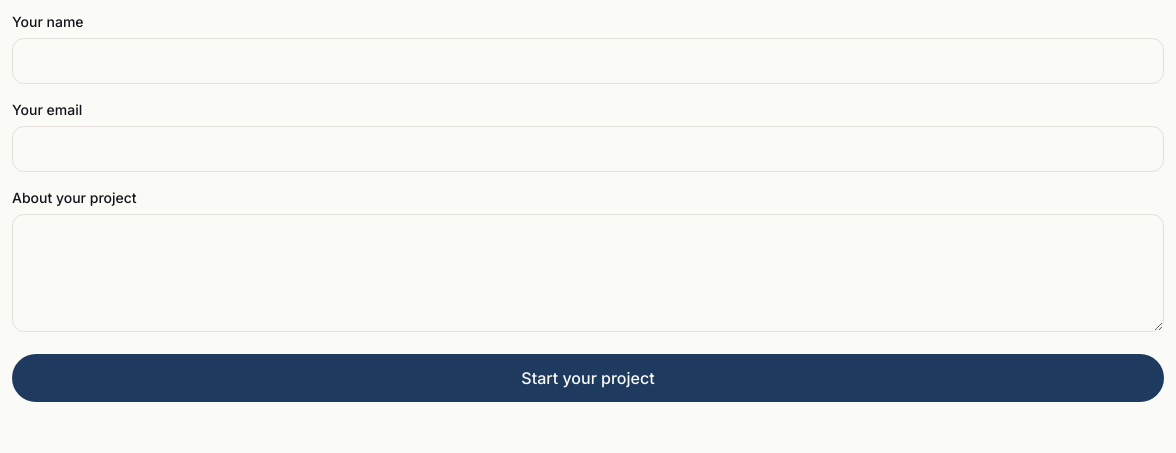
Test case: ContactForm (validated form) › keeps the text and shows a fallback when the send fails
Type "Test Visitor" into the field labelled "Your name". click: (588, 61)
box: [12, 38, 1164, 84]
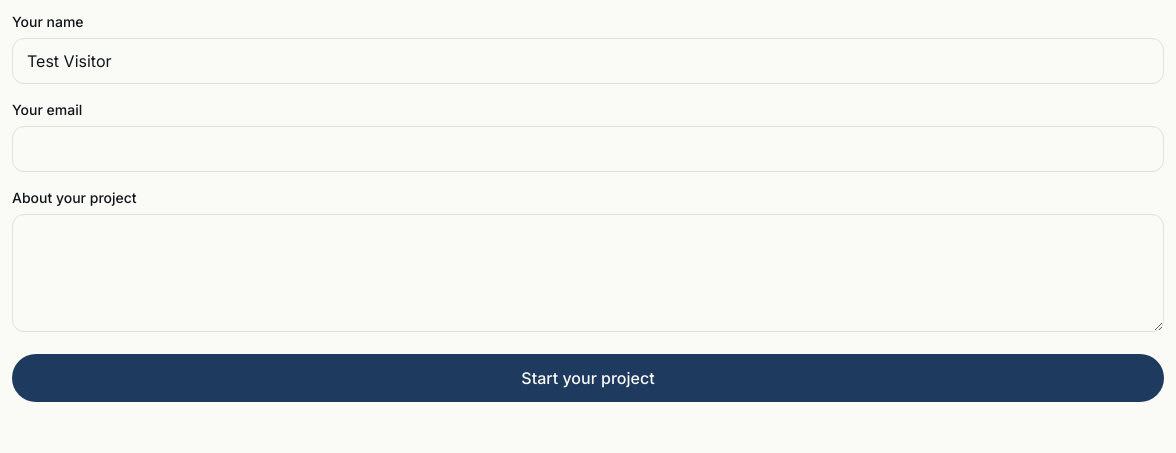
Type "visitor@example.com" into the field labelled "Your email". click: (588, 149)
box: [12, 126, 1164, 172]
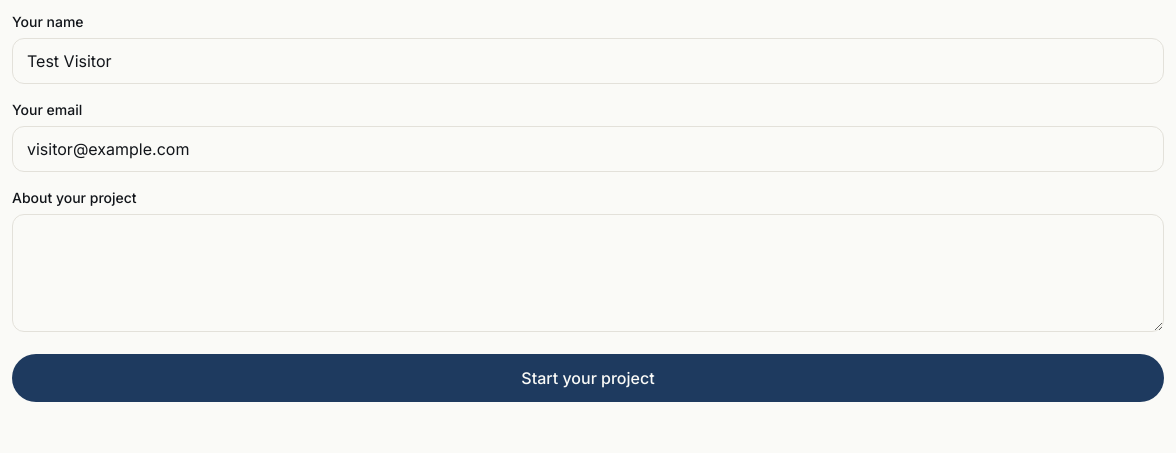
Type "A landing page for my bakery, please." into the text box labelled "About your project". click: (588, 273)
box: [12, 214, 1164, 332]
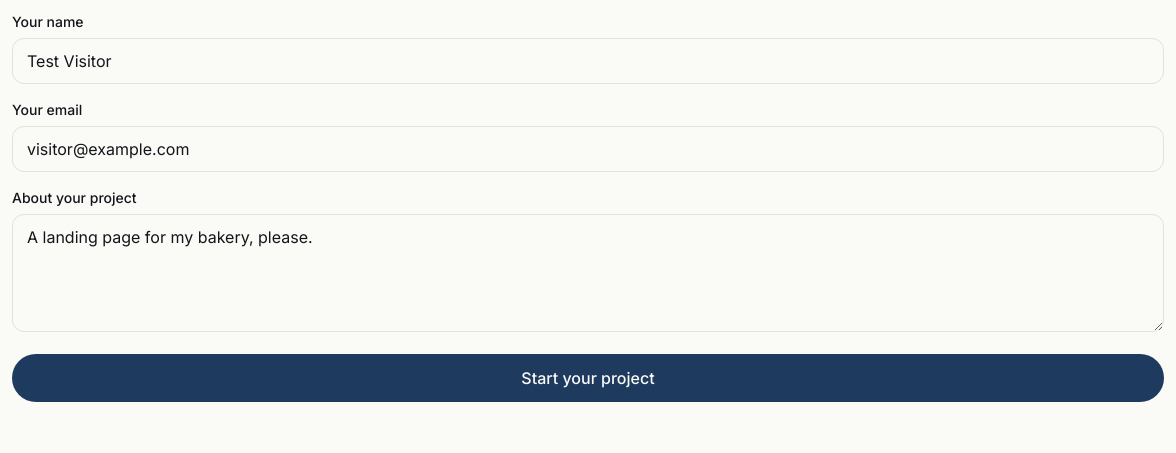
Click the button "Start your project". click: (588, 378)
box: [12, 354, 1164, 402]
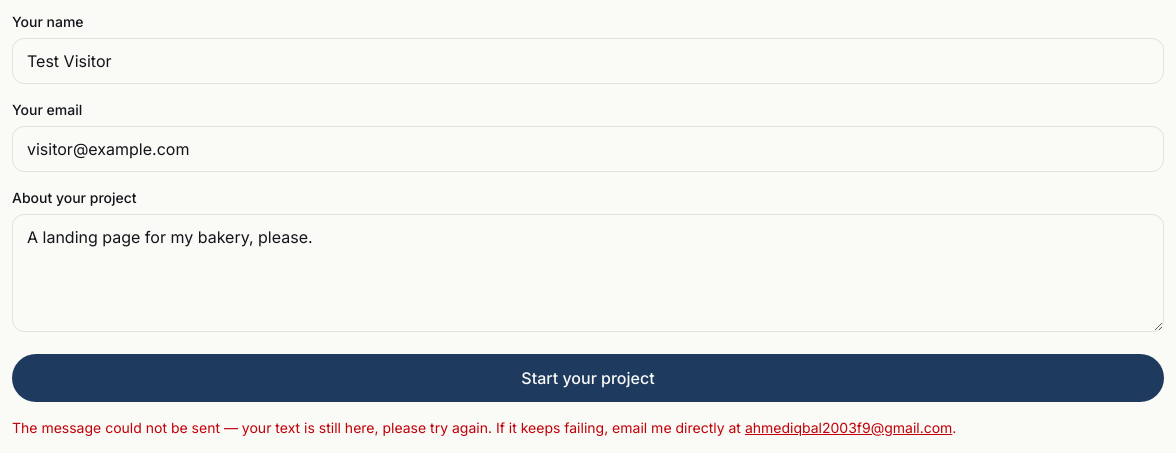
Check: the message shows "could not be sent", box [12, 419, 741, 436]
